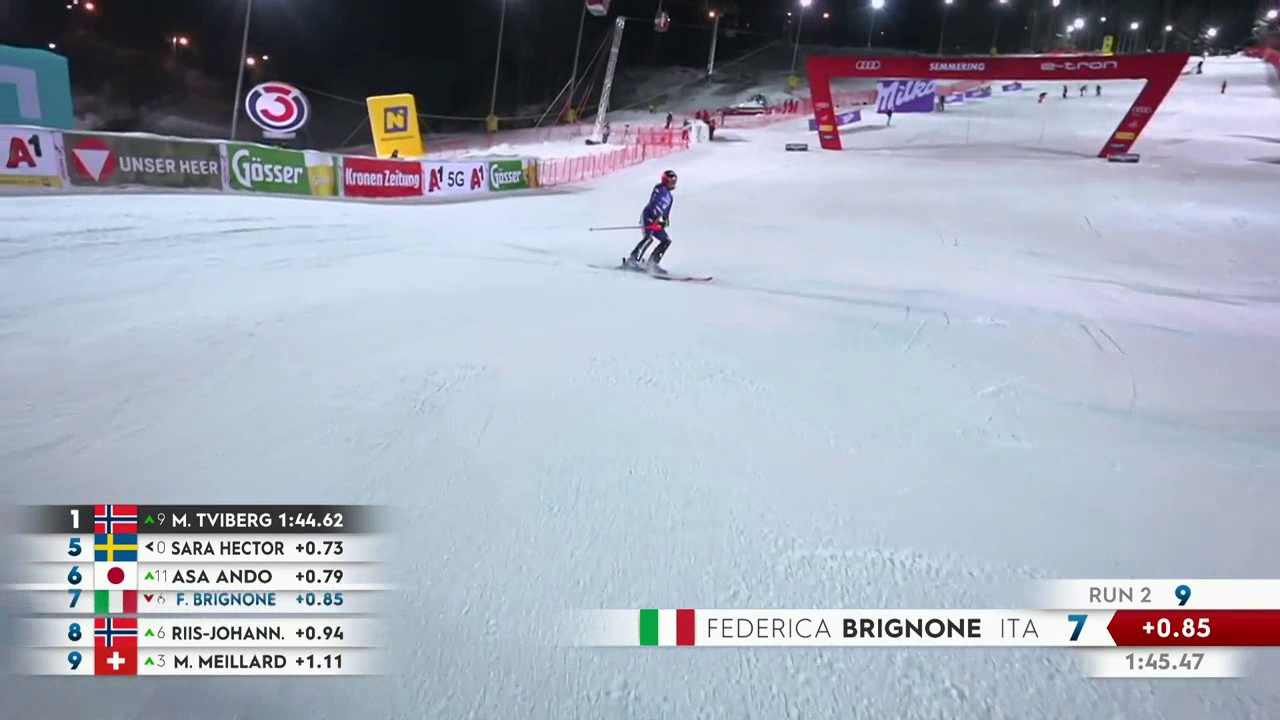a1: (2, 136, 51, 173)
audi: (854, 59, 882, 75)
etron: (1033, 56, 1127, 78)
goesser: (224, 151, 318, 196), (491, 162, 526, 193)
kronenzeitung: (348, 157, 423, 202)
milka: (877, 81, 940, 116)
unserheer: (70, 141, 220, 195)
